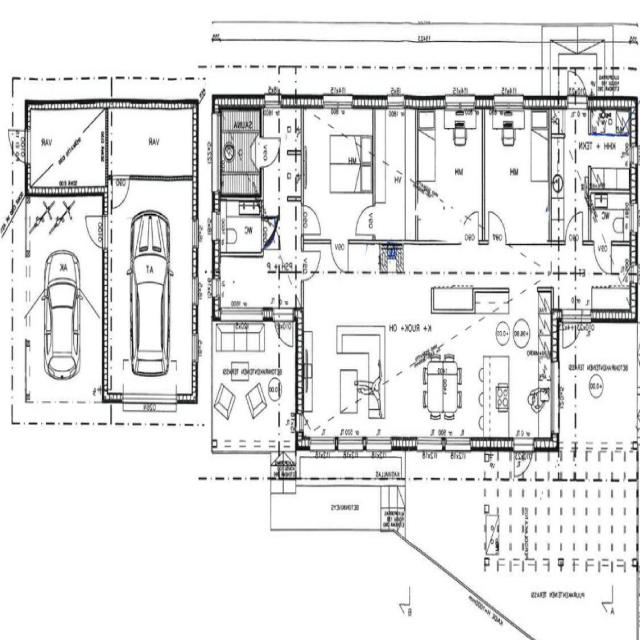door: (568, 63, 587, 109), (514, 437, 533, 483), (563, 308, 582, 354), (274, 308, 292, 353), (6, 131, 30, 164), (84, 215, 108, 248), (260, 138, 281, 167), (112, 175, 129, 210), (261, 220, 281, 249), (594, 241, 611, 275), (566, 211, 583, 245), (461, 211, 478, 245), (331, 241, 348, 275), (356, 205, 375, 235), (489, 212, 506, 245), (302, 252, 321, 280), (301, 205, 320, 233)
